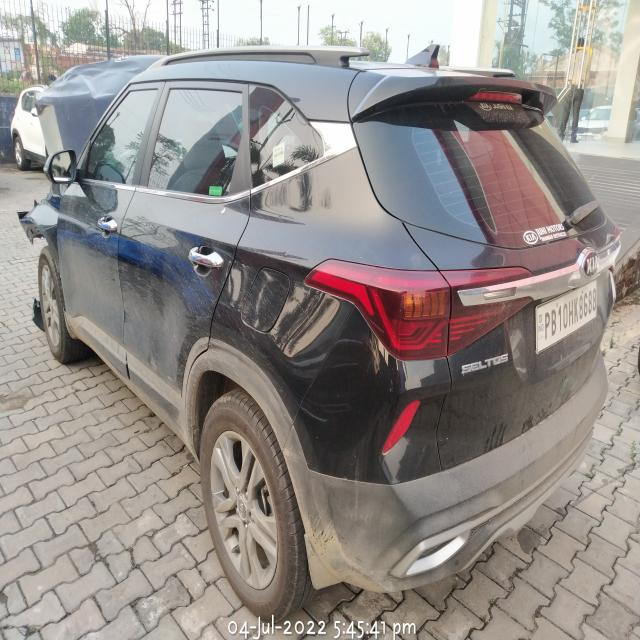damage: (273, 287, 342, 351), (326, 335, 369, 423), (17, 186, 50, 245), (384, 440, 417, 485), (225, 261, 245, 307)
